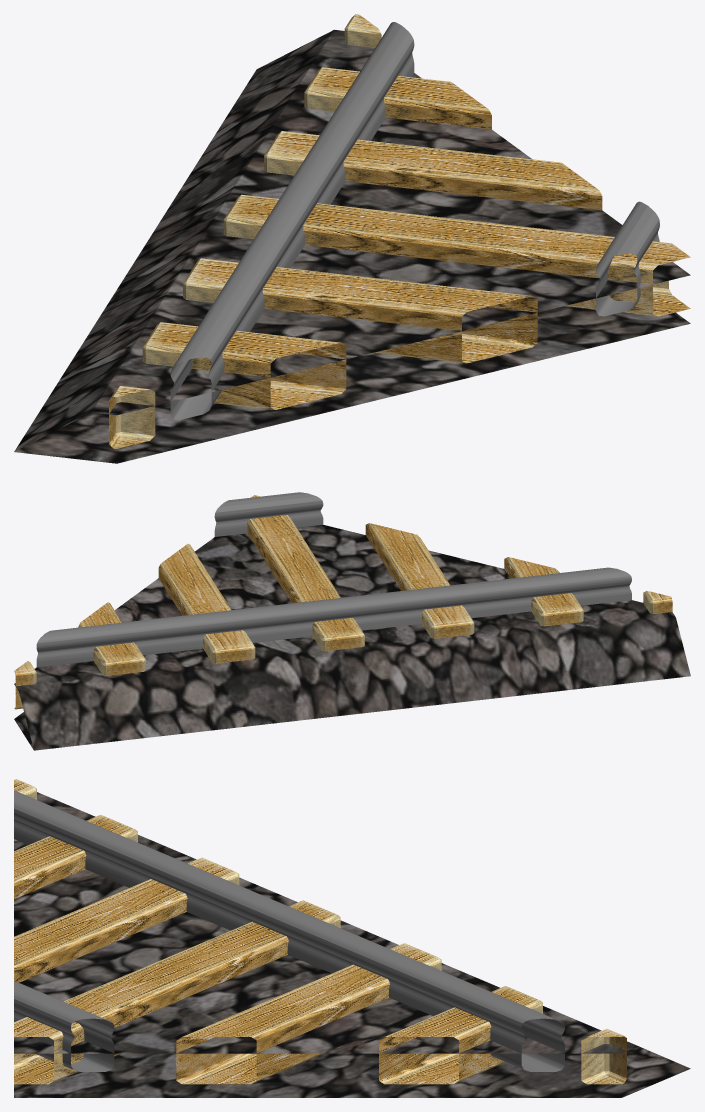
File: skewed-rail.glb
3 views of the same model, one above another, from view 1: azimuth 30°, elevation 25°; view 2: azimuth 150°, elevation 25°; view 3: azimuth 270°, elevation 25° (orthographic). The views are drawn at different scales.
Parts seen in each view (by area): view 1: Extrude_1, Extrude, Cube_1_4, Cube_1_3, Cube_1_5, Cube_1_2, Cube_1_6, Cube_1, Cube_1_7; view 2: Extrude_1, Extrude, Cube_1_4, Cube_1_3, Cube_1_5, Cube_1_2, Cube_1_6, Cube_1_7, Cube_1; view 3: Extrude_1, Extrude, Cube_1_4, Cube_1_5, Cube_1_3, Cube_1_6, Cube_1_2, Cube_1_7.
Boxes of the visible parts, x1,y1,x2,y2 form: Extrude_1: [14, 29, 690, 463]; Extrude: [170, 22, 659, 420]; Cube_1_4: [223, 194, 690, 316]; Cube_1_3: [183, 258, 537, 363]; Cube_1_5: [264, 131, 602, 210]; Cube_1_2: [142, 322, 346, 409]; Cube_1_6: [304, 67, 491, 129]; Cube_1: [109, 386, 155, 448]; Cube_1_7: [344, 14, 381, 47]; Extrude_1: [14, 525, 690, 750]; Extrude: [36, 492, 631, 667]; Cube_1_4: [247, 495, 364, 651]; Cube_1_3: [365, 523, 474, 638]; Cube_1_5: [158, 543, 255, 663]; Cube_1_2: [504, 557, 583, 626]; Cube_1_6: [78, 602, 145, 675]; Cube_1_7: [14, 661, 36, 709]; Cube_1: [643, 591, 672, 613]; Extrude_1: [14, 792, 690, 1097]; Extrude: [14, 790, 564, 1071]; Cube_1_4: [14, 900, 340, 1084]; Cube_1_5: [176, 943, 441, 1084]; Cube_1_3: [14, 857, 239, 982]; Cube_1_6: [379, 986, 542, 1084]; Cube_1_2: [14, 814, 137, 898]; Cube_1_7: [581, 1028, 626, 1084].
Bounding box in the file's own units: 4.45 × 0.5762 × 4.45.
Materials: 3 (3 with a texture image).
